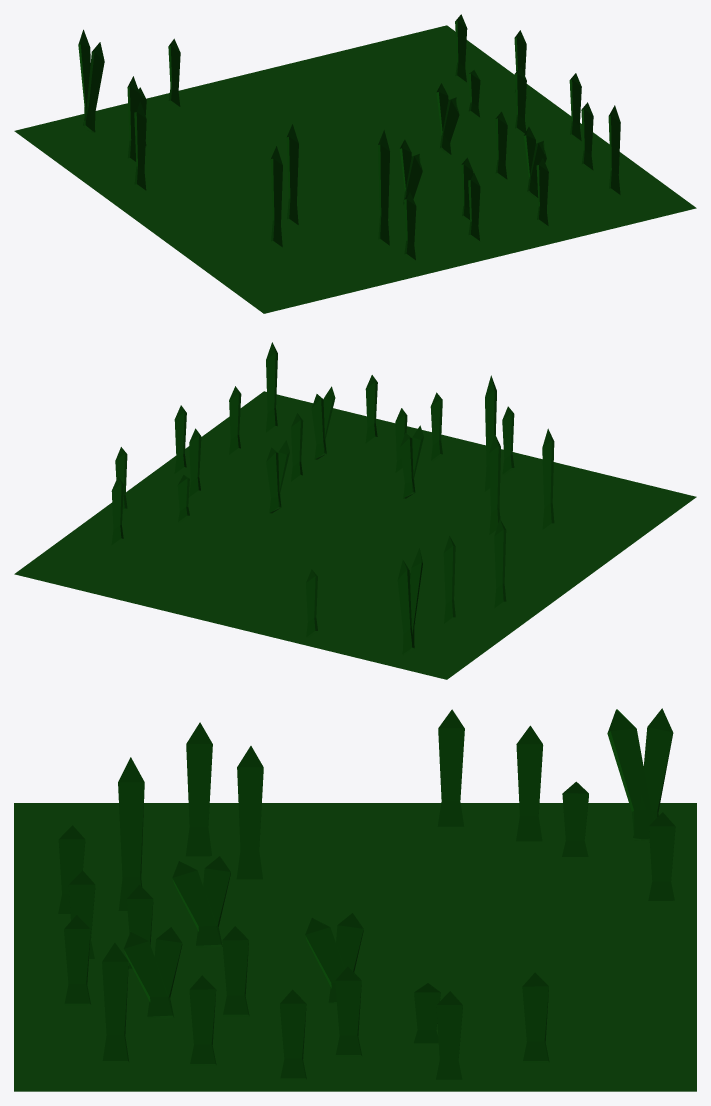
File: GrassShmol.obj
3 renders of one model, top to bottom at view 1: azimuth 30°, elevation 25°; view 2: azimuth 150°, elevation 25°; view 3: azimuth 270°, elevation 25°, orthographic. The views are drawn at different scales.
Visible parts, largest first — view 1: Double1-2.001, Shortie.012, Shortie.077, Shortie.069, Double1, Shortie.050, Shortie.074, Double2, Shortie.073, Shortie.078, Shortie.019, Shortie.053 (+10 smaller); view 2: Double1-2.001, Shortie.077, Shortie.069, Double2, Shortie.050, Shortie.012, Shortie.074, Shortie.064, Double1, Shortie.007, Shortie.078, Shortie.014 (+9 smaller); view 3: Double1-2.001, Shortie.012, Shortie.077, Shortie.069, Shortie.050, Shortie.074, Double1, Shortie.064, Double2, ShmolDouble1.001, Shortie.053, ShmolDouble1.002 (+16 smaller).
Boxes of the visible parts, x1,y1,x2,y2 form: Double1-2.001: [14, 25, 696, 313]; Shortie.012: [378, 130, 389, 245]; Shortie.077: [270, 146, 282, 247]; Shortie.069: [286, 124, 298, 224]; Double1: [83, 42, 104, 133]; Shortie.050: [608, 105, 620, 194]; Shortie.074: [134, 101, 146, 190]; Double2: [78, 29, 95, 132]; Shortie.073: [404, 192, 416, 260]; Shortie.078: [468, 173, 480, 241]; Shortie.019: [168, 38, 180, 107]; Shortie.053: [536, 158, 548, 226]; Double1-2.001: [14, 391, 696, 679]; Shortie.077: [542, 428, 554, 529]; Shortie.069: [489, 434, 500, 534]; Double2: [397, 560, 414, 655]; Shortie.050: [266, 342, 277, 432]; Shortie.012: [484, 375, 496, 491]; Shortie.074: [494, 519, 506, 607]; Shortie.064: [443, 536, 455, 623]; Double1: [402, 548, 422, 654]; Shortie.007: [189, 428, 201, 497]; Shortie.078: [430, 392, 442, 461]; Shortie.014: [229, 386, 241, 454]; Double1-2.001: [14, 803, 696, 1091]; Shortie.012: [118, 757, 144, 910]; Shortie.077: [186, 722, 212, 856]; Shortie.069: [236, 746, 263, 879]; Shortie.050: [102, 943, 128, 1061]; Shortie.074: [437, 709, 464, 826]; Double1: [607, 709, 654, 840]; Shortie.064: [516, 725, 543, 841]; Double2: [633, 708, 673, 841]; ShmolDouble1.001: [196, 856, 230, 947]; Shortie.053: [64, 915, 90, 1005]; ShmolDouble1.002: [147, 927, 182, 1018].
Size of the model in its own units: 5.97 by 1.54 by 5.97.
